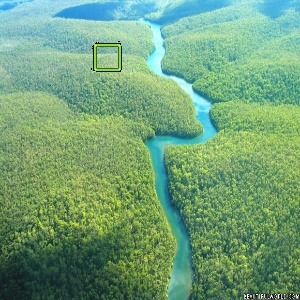square: (92, 41, 123, 72)
